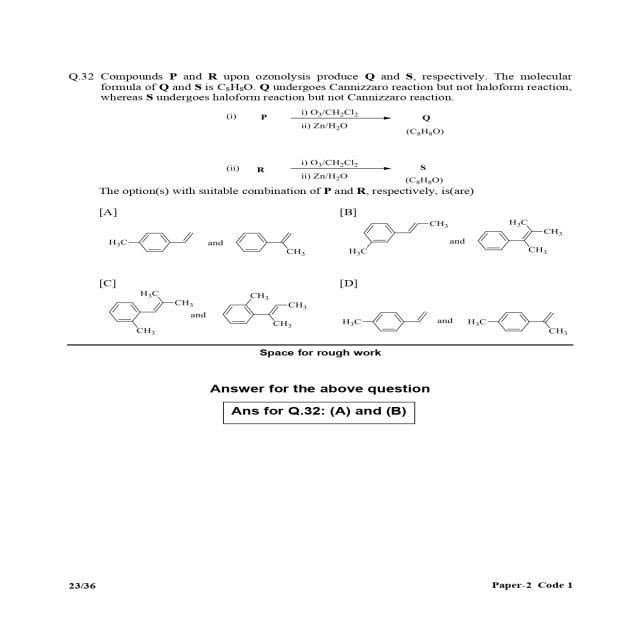Answer_Block: (29, 198, 604, 345)
Description: (29, 370, 604, 432)
Question_Answer_Block: (29, 43, 604, 345)
Question_Block: (29, 43, 604, 198)
Question_Paper_Area: (29, 42, 604, 544)
